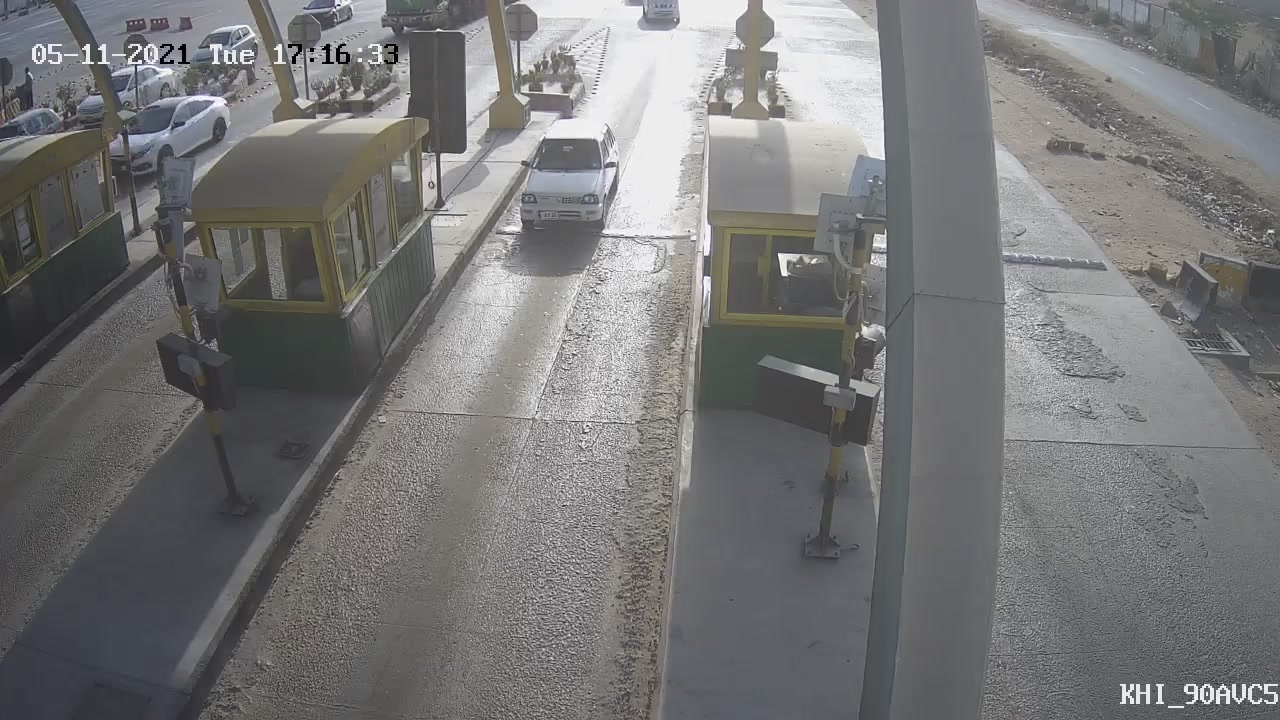F1: (496, 100, 643, 251)
